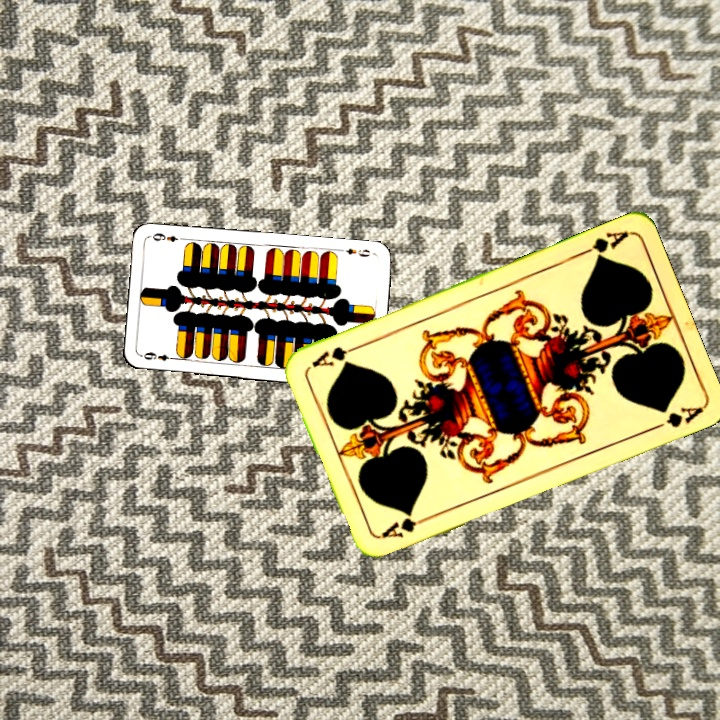E9: (138, 348, 178, 363), (342, 244, 373, 259)
GA: (574, 227, 631, 263), (376, 510, 433, 541)
